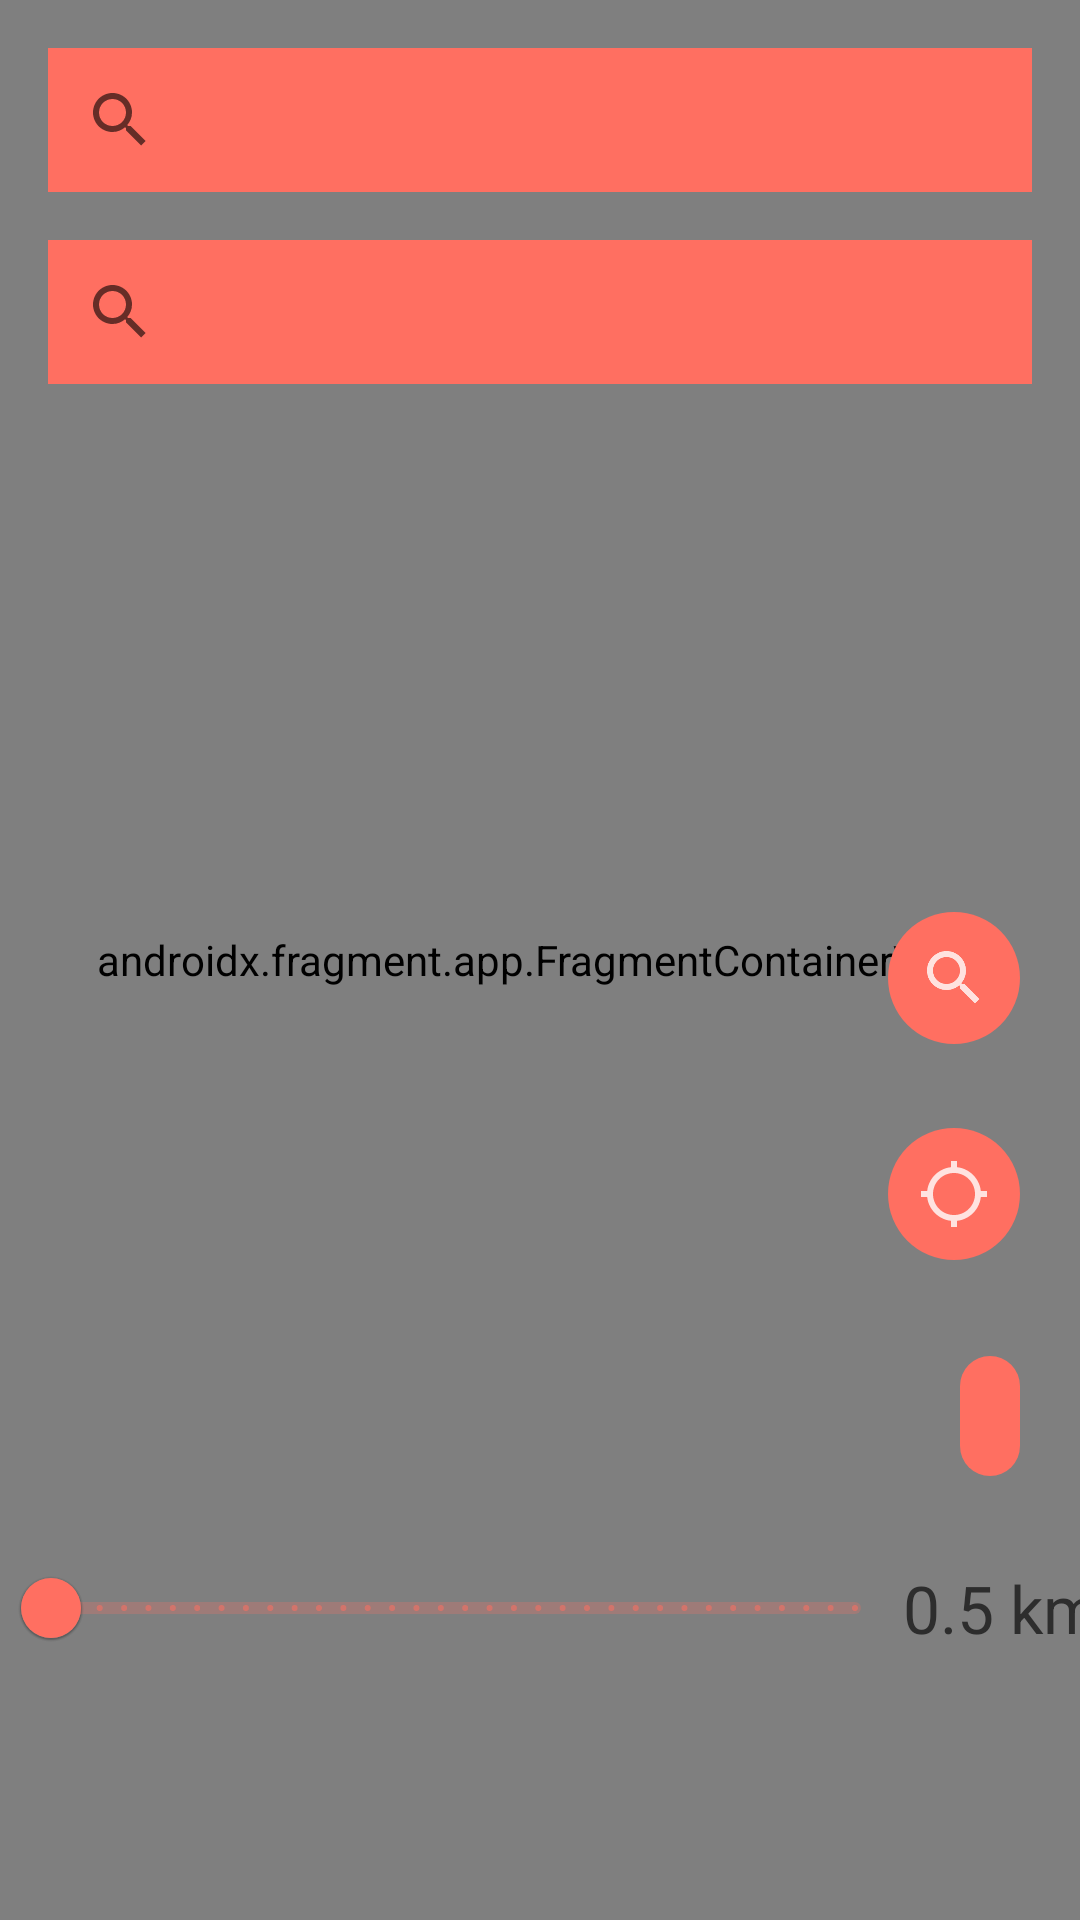

Icon bounding boxes for this 1080px x 1920px phone screenshot, format (x1, y1, x2, y2):
center location: (888, 1128, 1020, 1260)
search: (882, 912, 1020, 1044)
